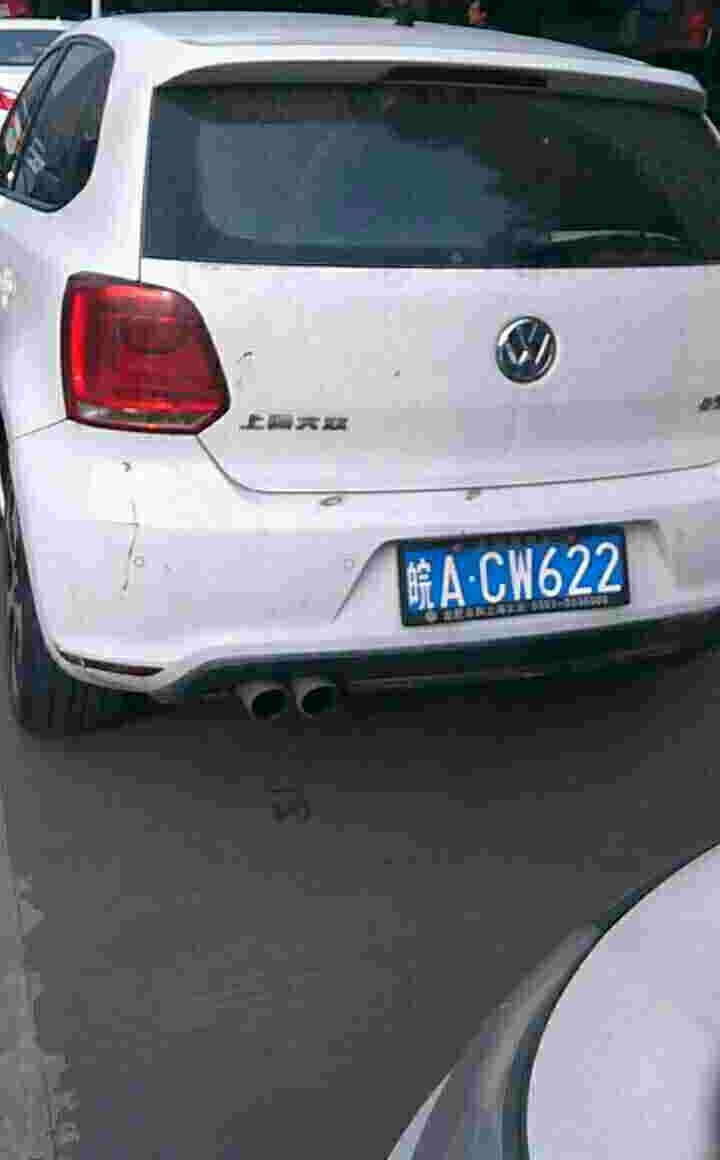license_plate: (414, 541, 637, 608)
